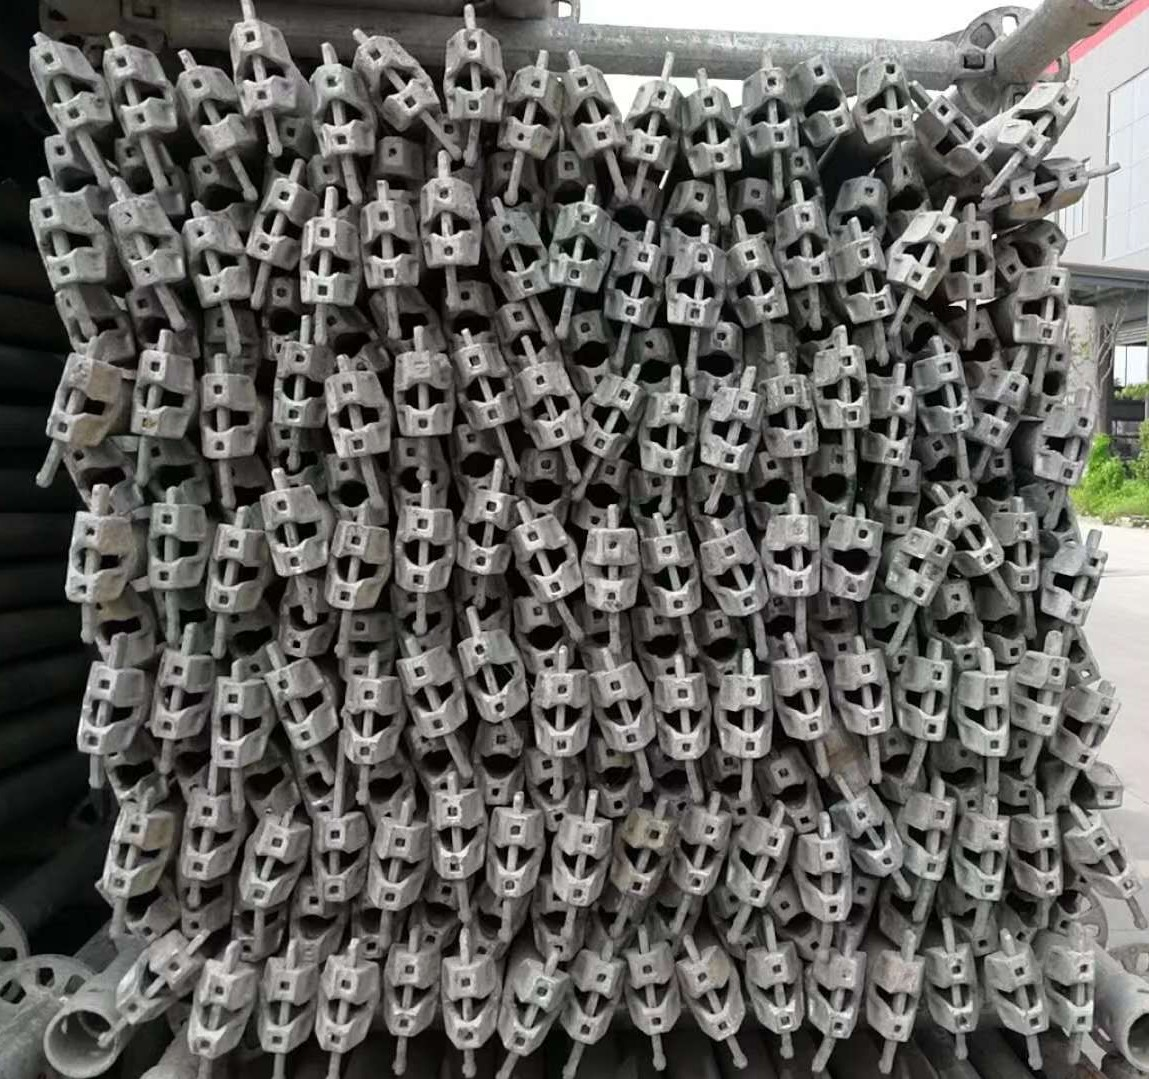THsquare_steel: (801, 51, 854, 138), (832, 518, 882, 602), (322, 309, 385, 374), (560, 313, 614, 387), (999, 221, 1062, 281), (511, 599, 565, 669), (772, 759, 820, 832), (280, 584, 329, 656), (1048, 412, 1094, 487), (410, 883, 460, 950), (327, 454, 375, 523), (61, 441, 119, 499), (940, 582, 979, 666), (959, 310, 1008, 376), (697, 325, 746, 388), (813, 444, 854, 522), (405, 735, 458, 792), (448, 282, 496, 346), (895, 303, 954, 354), (633, 327, 679, 390), (86, 600, 133, 664), (590, 745, 634, 813), (468, 896, 516, 957), (776, 894, 825, 953), (576, 458, 618, 528), (523, 454, 566, 522), (700, 613, 743, 678), (128, 290, 174, 351), (292, 888, 330, 963), (710, 757, 759, 814), (926, 433, 970, 497), (263, 280, 299, 355), (224, 616, 270, 675), (43, 135, 89, 193), (145, 441, 192, 499), (483, 725, 517, 803), (842, 176, 888, 233), (945, 746, 985, 813), (104, 752, 153, 806), (952, 892, 996, 952), (341, 615, 381, 678), (669, 181, 718, 233), (637, 613, 677, 675), (614, 176, 659, 232), (189, 160, 237, 212), (362, 763, 405, 820), (166, 737, 211, 792), (114, 140, 159, 193), (1032, 349, 1069, 415), (241, 765, 286, 818), (990, 594, 1025, 661), (733, 178, 776, 233), (451, 430, 491, 488), (813, 600, 854, 656), (763, 601, 802, 658), (655, 758, 695, 814), (887, 465, 920, 532), (299, 750, 333, 814), (375, 132, 413, 188), (1054, 871, 1089, 930), (757, 464, 796, 517), (120, 895, 163, 943), (982, 451, 1015, 513), (1068, 776, 1124, 812), (848, 875, 879, 937), (355, 908, 394, 956), (1066, 629, 1100, 685), (549, 154, 588, 199), (1005, 894, 1042, 942)
THsquare_steel_blocked: (357, 33, 427, 123), (182, 63, 240, 158), (27, 38, 89, 128), (113, 952, 190, 1021), (518, 361, 577, 451), (504, 64, 560, 155), (1076, 821, 1142, 897), (684, 957, 743, 1039), (29, 196, 83, 287), (618, 952, 677, 1033), (416, 182, 473, 267), (44, 357, 100, 442), (105, 43, 157, 136), (925, 95, 995, 164), (262, 492, 317, 578), (1016, 86, 1080, 161), (404, 657, 463, 737), (706, 536, 765, 618), (503, 975, 563, 1054), (110, 200, 162, 289), (490, 213, 546, 297), (901, 214, 958, 295), (266, 671, 326, 749), (451, 32, 504, 121), (454, 347, 513, 426), (845, 796, 904, 875), (565, 69, 623, 149), (548, 201, 600, 288), (311, 65, 362, 155), (197, 374, 249, 459), (466, 639, 523, 718), (232, 20, 283, 109), (327, 372, 380, 455), (190, 972, 243, 1055), (518, 522, 574, 602), (270, 345, 322, 429), (727, 243, 784, 321), (948, 498, 1005, 576), (761, 374, 814, 456), (775, 659, 830, 739), (127, 353, 179, 436), (327, 524, 376, 613), (59, 514, 107, 603), (747, 67, 799, 150), (571, 956, 620, 1045), (598, 668, 649, 752), (773, 512, 822, 597), (629, 83, 681, 163), (846, 240, 899, 320), (392, 355, 445, 435), (609, 241, 660, 325), (146, 651, 194, 738), (737, 823, 786, 909), (252, 182, 301, 265), (186, 218, 232, 306), (584, 532, 635, 614), (206, 528, 255, 613), (74, 669, 123, 753), (399, 509, 445, 595), (904, 536, 958, 608), (243, 823, 290, 908), (319, 965, 366, 1050), (872, 961, 923, 1038), (371, 825, 420, 906), (586, 384, 641, 455), (691, 88, 737, 171), (1070, 697, 1124, 769), (488, 817, 534, 900), (922, 355, 972, 432), (298, 218, 343, 303), (823, 350, 872, 428), (723, 680, 772, 759), (681, 817, 730, 895), (810, 839, 853, 928), (623, 818, 669, 900), (712, 392, 760, 472), (1004, 958, 1053, 1035), (649, 395, 695, 478), (846, 658, 895, 733), (759, 952, 806, 1030), (105, 812, 149, 897), (673, 243, 717, 328), (365, 204, 410, 286), (788, 203, 832, 286), (1027, 655, 1071, 738), (463, 494, 508, 575), (660, 675, 705, 757), (869, 59, 915, 138), (443, 967, 490, 1045), (820, 956, 863, 1040), (147, 503, 189, 589), (1062, 545, 1105, 627), (652, 537, 697, 618), (347, 682, 390, 764), (911, 797, 952, 881), (1058, 954, 1100, 1035), (979, 378, 1029, 446), (186, 790, 222, 884), (910, 661, 954, 738), (53, 290, 105, 355), (970, 673, 1011, 756), (261, 972, 302, 1054), (543, 674, 584, 756), (559, 828, 602, 904), (435, 800, 476, 881), (316, 817, 356, 901), (388, 958, 430, 1037), (1026, 269, 1068, 347), (528, 753, 576, 821), (715, 893, 769, 953), (871, 389, 913, 466), (1020, 820, 1062, 897), (498, 303, 553, 360), (935, 958, 977, 1032), (958, 217, 995, 301), (696, 473, 743, 536), (967, 817, 1005, 898), (1006, 509, 1043, 592), (216, 684, 252, 769), (869, 599, 913, 666), (457, 571, 505, 632), (260, 427, 310, 483), (460, 576, 510, 633), (632, 475, 680, 532), (394, 597, 444, 652), (394, 439, 434, 507), (653, 890, 699, 947), (541, 886, 577, 956), (172, 879, 217, 935), (595, 893, 637, 951), (1006, 738, 1037, 808), (491, 154, 535, 203), (234, 908, 274, 959)
